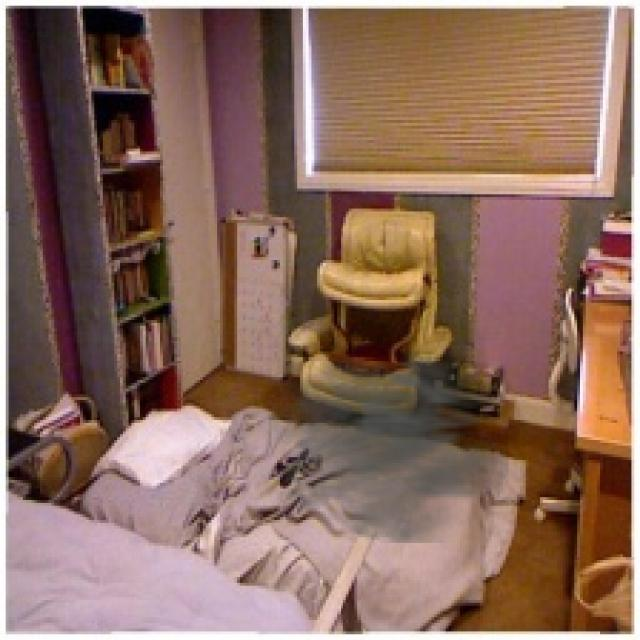smoke: (248, 340, 508, 543)
